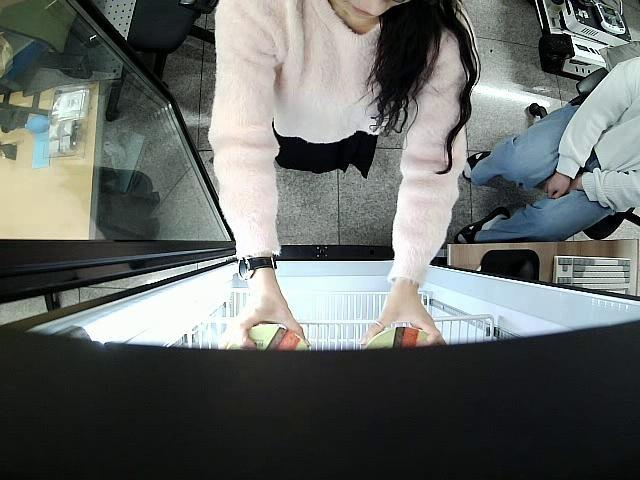03_chapagetti_L: (226, 324, 310, 356), (362, 324, 442, 351)
